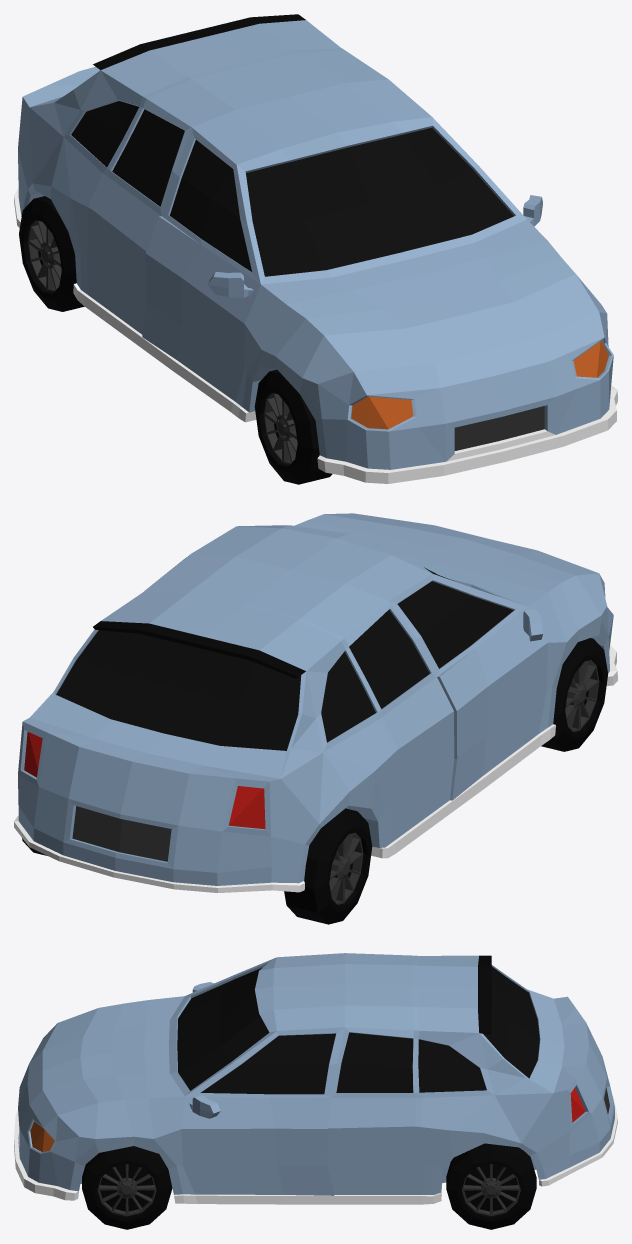
Rendered from car_NormalCar2.glb.
The picture shows the model from 3 angles, top to bottom: view 1: azimuth 30°, elevation 25°; view 2: azimuth 150°, elevation 25°; view 3: azimuth 270°, elevation 25°; orthographic projection. The views are drawn at different scales.
Visible parts, largest first — view 1: NormalCar2, NormalCar2_FrontRightWheel, NormalCar2_BackWheels; view 2: NormalCar2, NormalCar2_BackWheels, NormalCar2_FrontRightWheel; view 3: NormalCar2, NormalCar2_BackWheels, NormalCar2_FrontLeftWheel.
Part boxes in pixels (<box>): NormalCar2: <box>14,14,617,483</box>; NormalCar2_FrontRightWheel: <box>254,369,332,484</box>; NormalCar2_BackWheels: <box>19,196,84,311</box>; NormalCar2: <box>14,513,617,892</box>; NormalCar2_BackWheels: <box>22,808,372,924</box>; NormalCar2_FrontRightWheel: <box>541,638,607,751</box>; NormalCar2: <box>14,953,617,1204</box>; NormalCar2_BackWheels: <box>446,1143,536,1229</box>; NormalCar2_FrontLeftWheel: <box>82,1146,172,1229</box>.
Size of the model in its own units: 2.18 by 1.52 by 4.4.
1 material, 1 textured.
